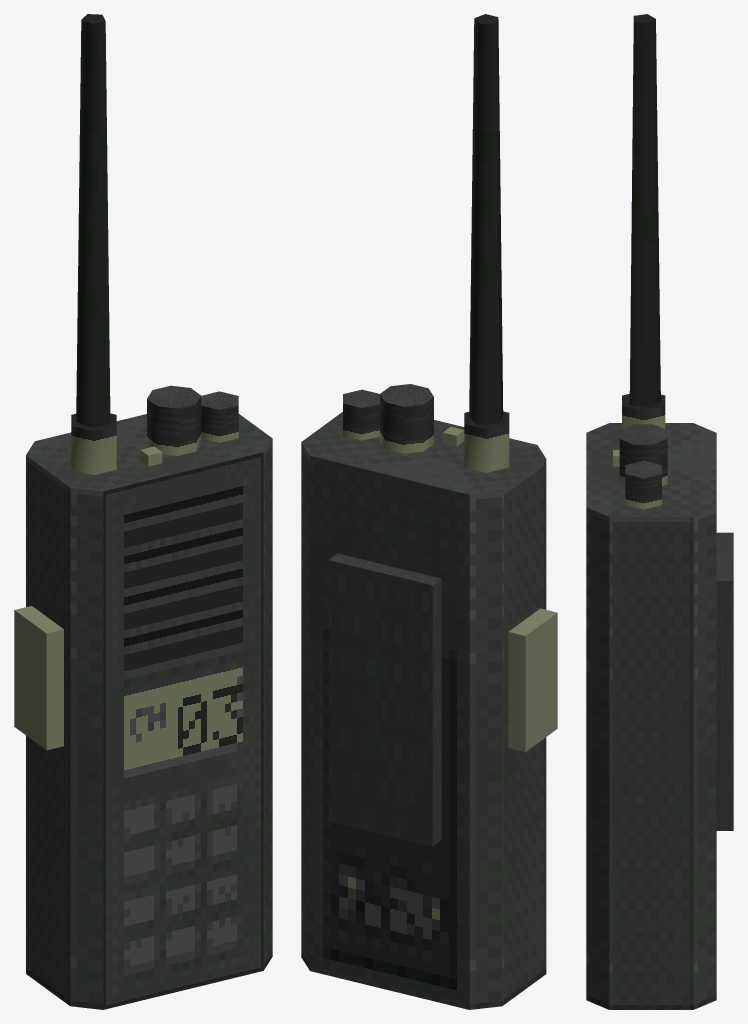
The model's file is walkie_talkie.obj.
The picture shows the model from 3 angles, left to right: view 1: azimuth 30°, elevation 25°; view 2: azimuth 150°, elevation 25°; view 3: azimuth 270°, elevation 25°; orthographic projection. The views are drawn at different scales.
Parts seen in each view (by area): view 1: walkie_talkie; view 2: walkie_talkie; view 3: walkie_talkie.
Part boxes in pixels (left/top/right/bottom): walkie_talkie: left=14, top=14, right=272, bottom=1009; walkie_talkie: left=301, top=14, right=557, bottom=1009; walkie_talkie: left=586, top=14, right=733, bottom=1009.
Size of the model in its own units: 0.063 by 0.264 by 0.0385.
2 materials, 2 textured.
